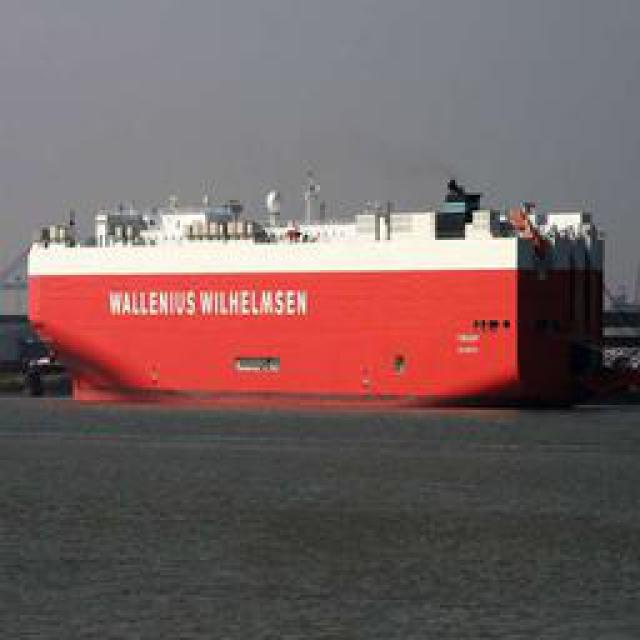Ship: (31, 179, 616, 399)
